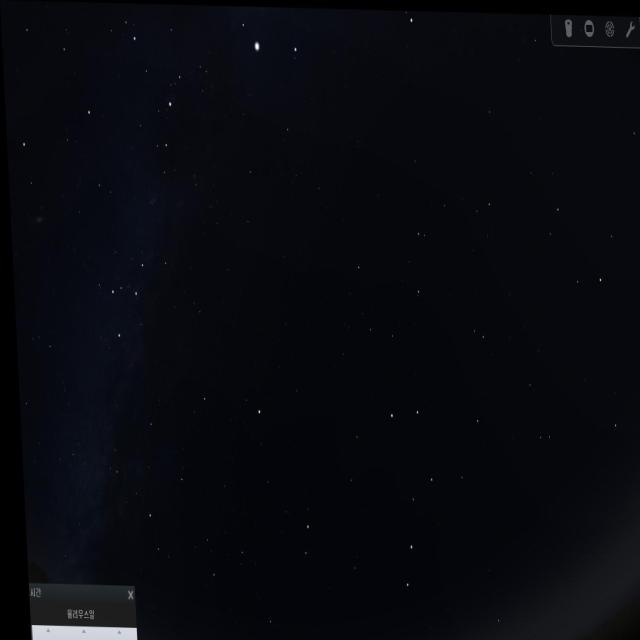ursa_major: (373, 385, 458, 640)
